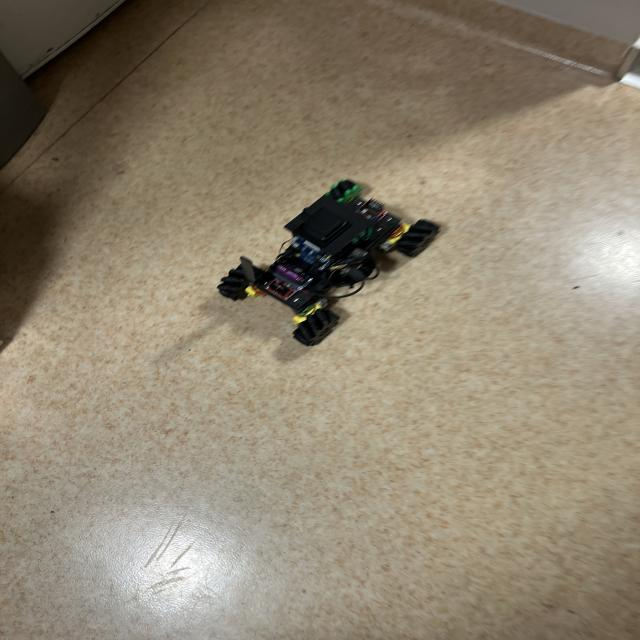robot: (218, 180, 440, 346)
